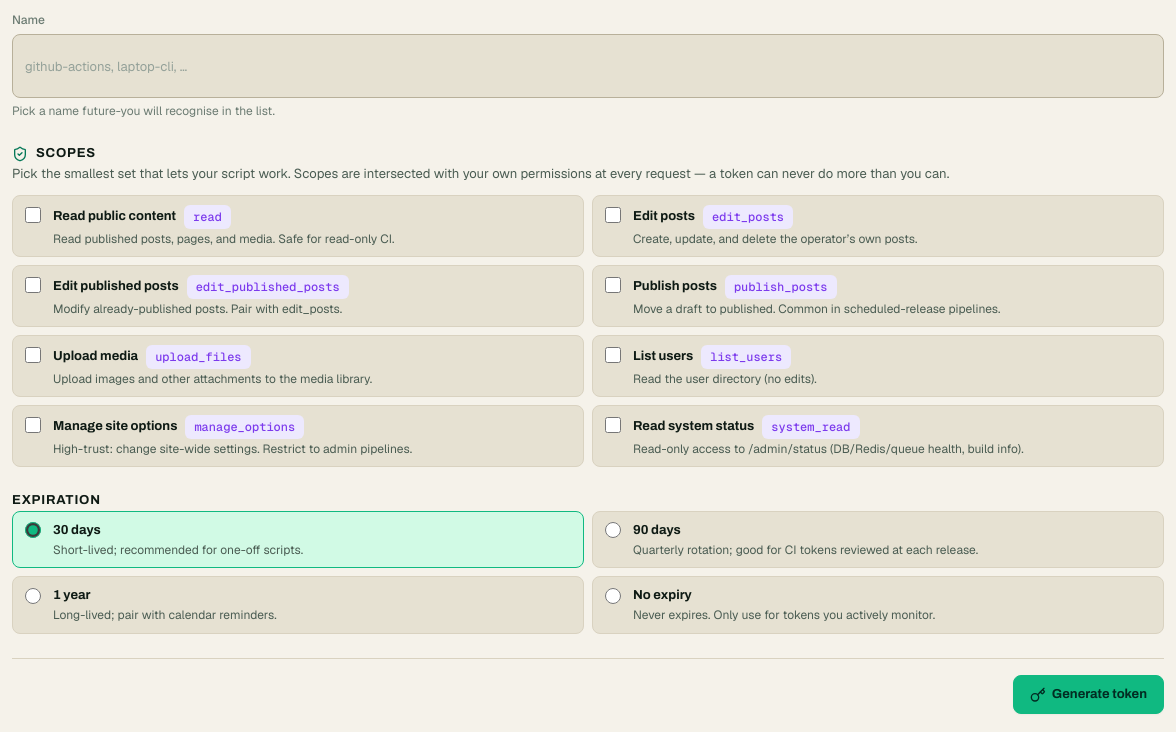
Test: NewTokenForm › rejects empty name with an inline error
Click the checkbox with test id "scope-read".
click(33, 215)  # box [25, 207, 41, 223]
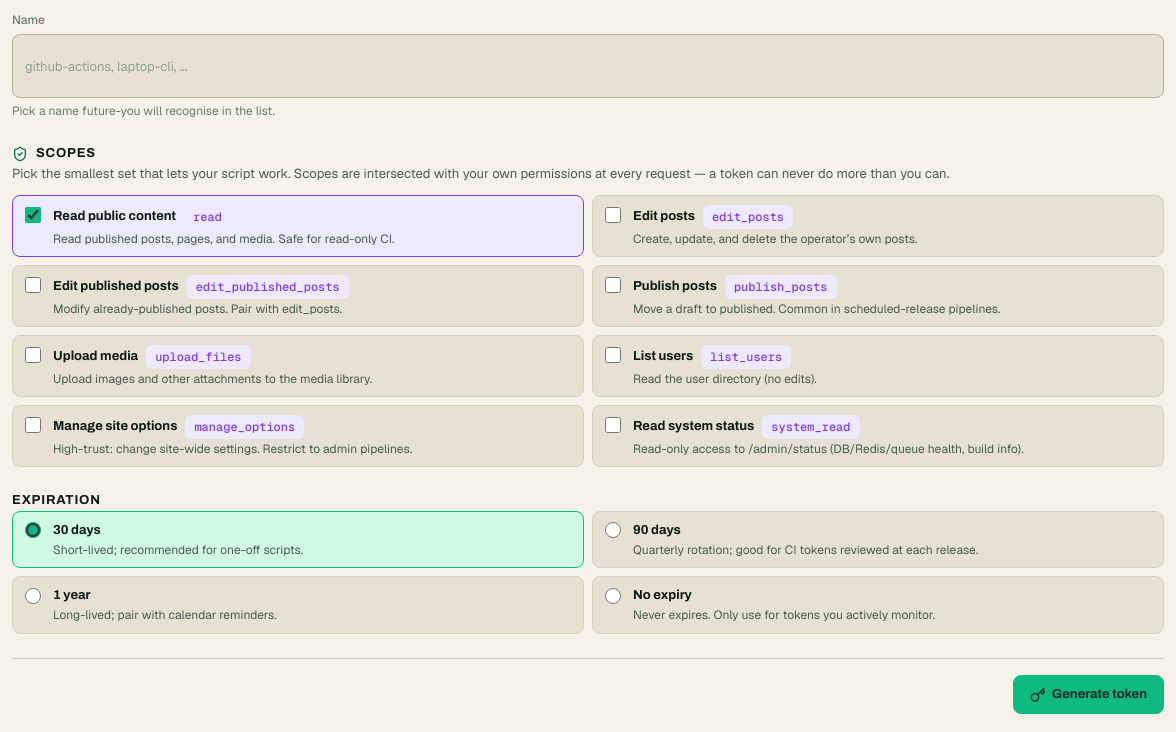
Submit the form with test id "new-token-form"
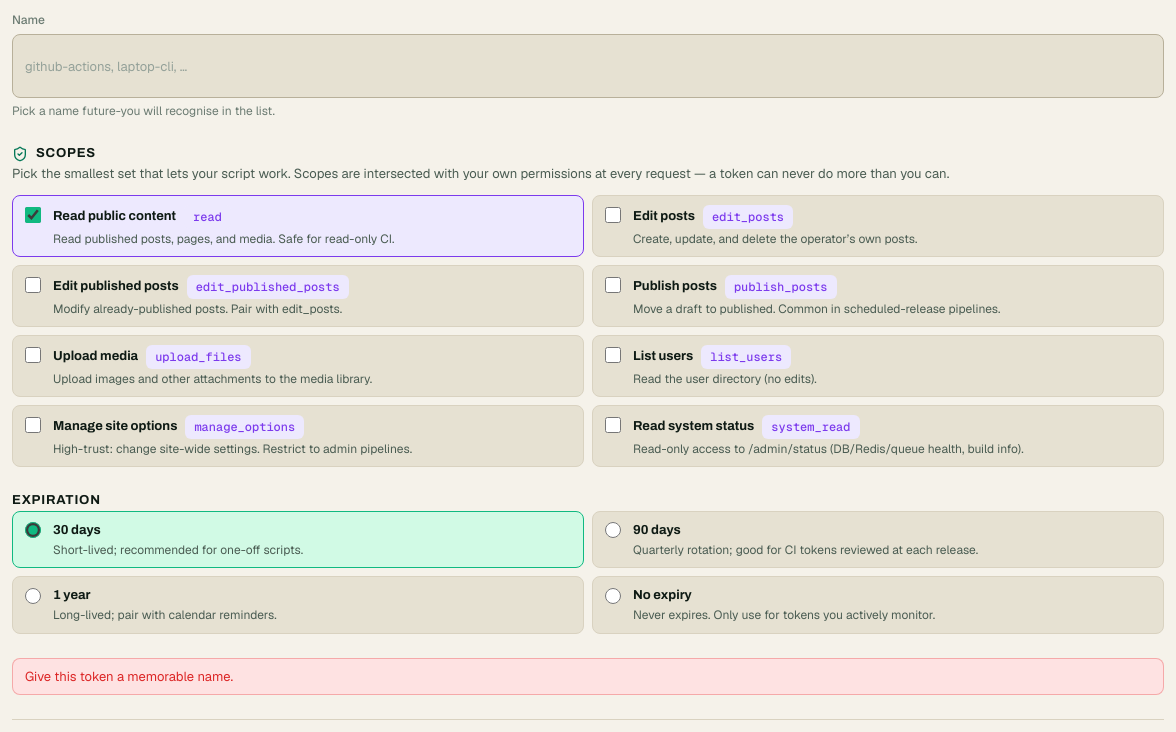
Expected: the message with test id "new-token-error" shows "memorable name", [25, 668, 233, 685]
